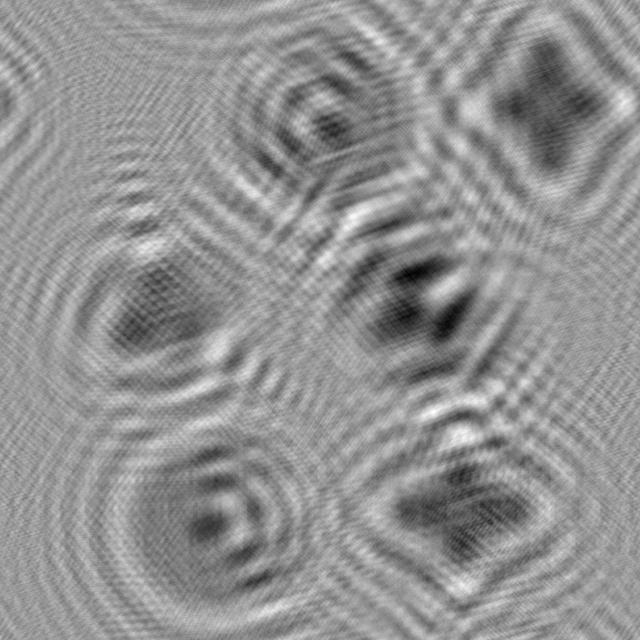U: (70, 388, 355, 640), (188, 0, 440, 244)
W: (283, 181, 549, 424)
X: (318, 388, 611, 640), (427, 0, 640, 226)
Y: (14, 192, 289, 433)
